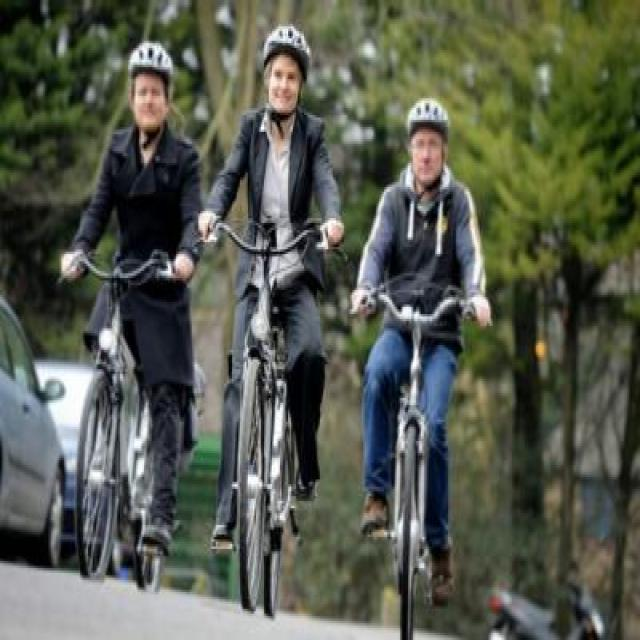Helmet: (121, 41, 178, 127), (262, 22, 312, 110), (402, 94, 451, 182)
